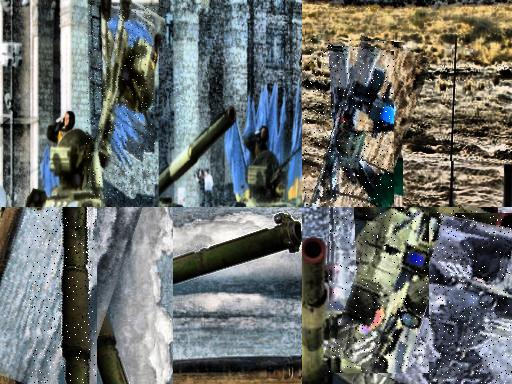tanks: (331, 208, 512, 373), (310, 42, 395, 208), (87, 7, 156, 200), (431, 215, 512, 318), (61, 208, 90, 384)
